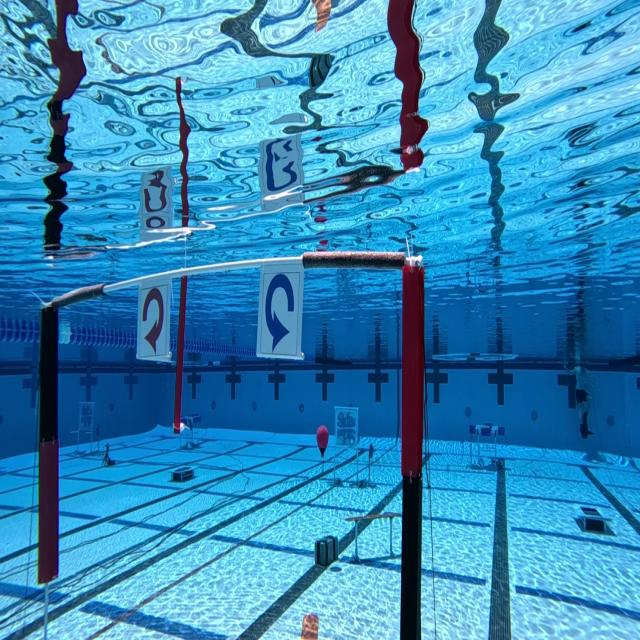blue_side: (253, 258, 308, 364)
red_side: (132, 276, 173, 366)
